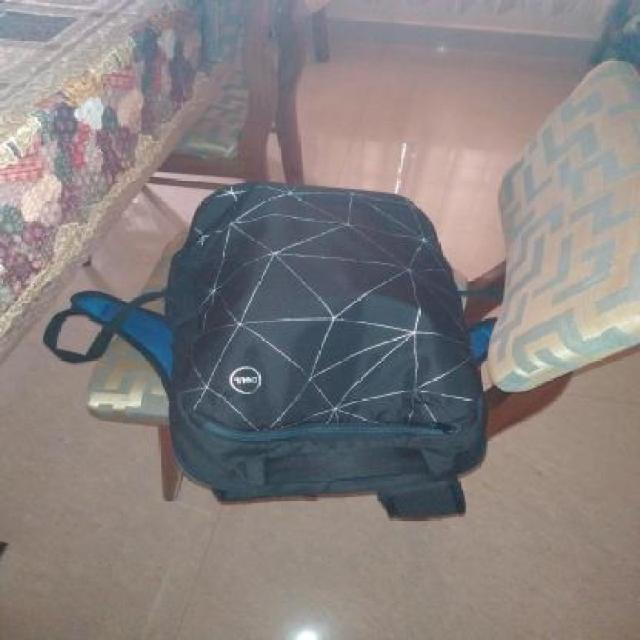backpack: (152, 175, 492, 523)
